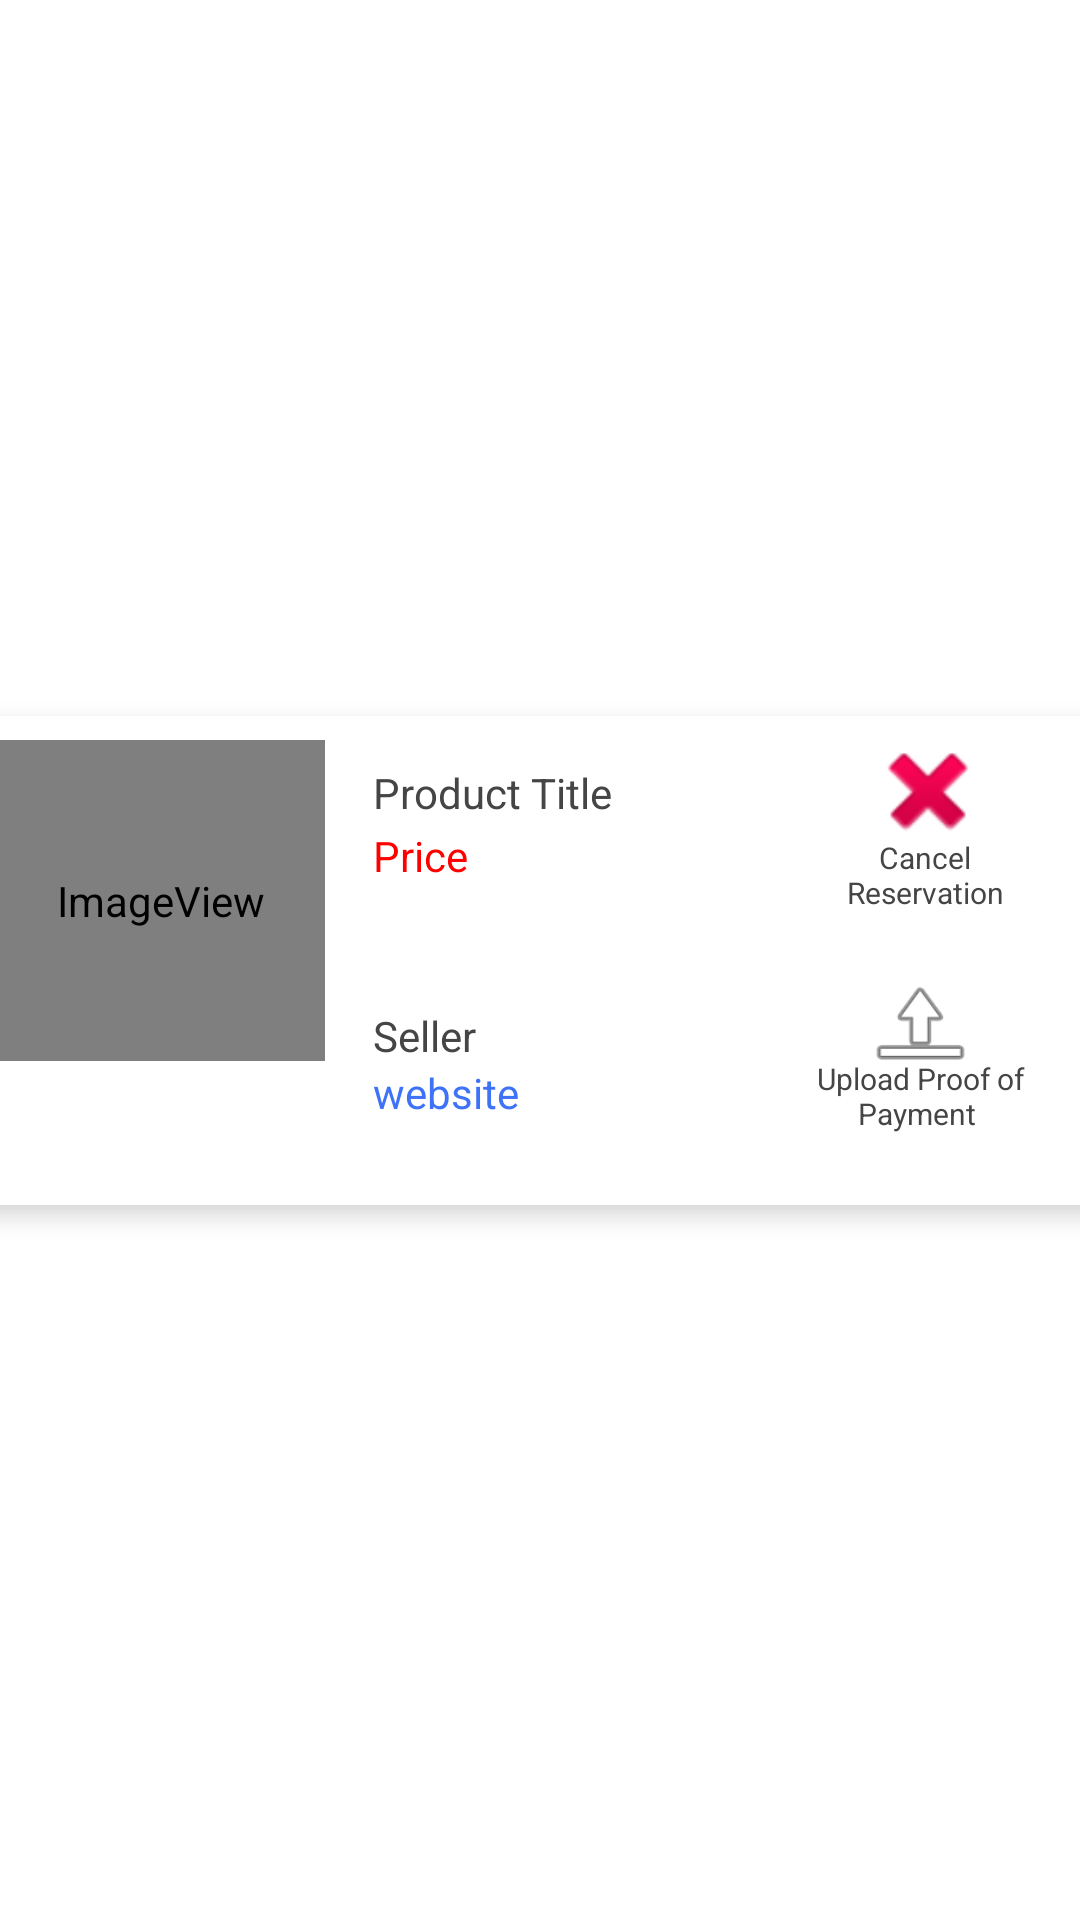

Named icons in this screenshot (1080 x 1920) and their bounding boxes, box=[x1, y1, x2, y2]:
delete: box=[888, 753, 968, 830]
